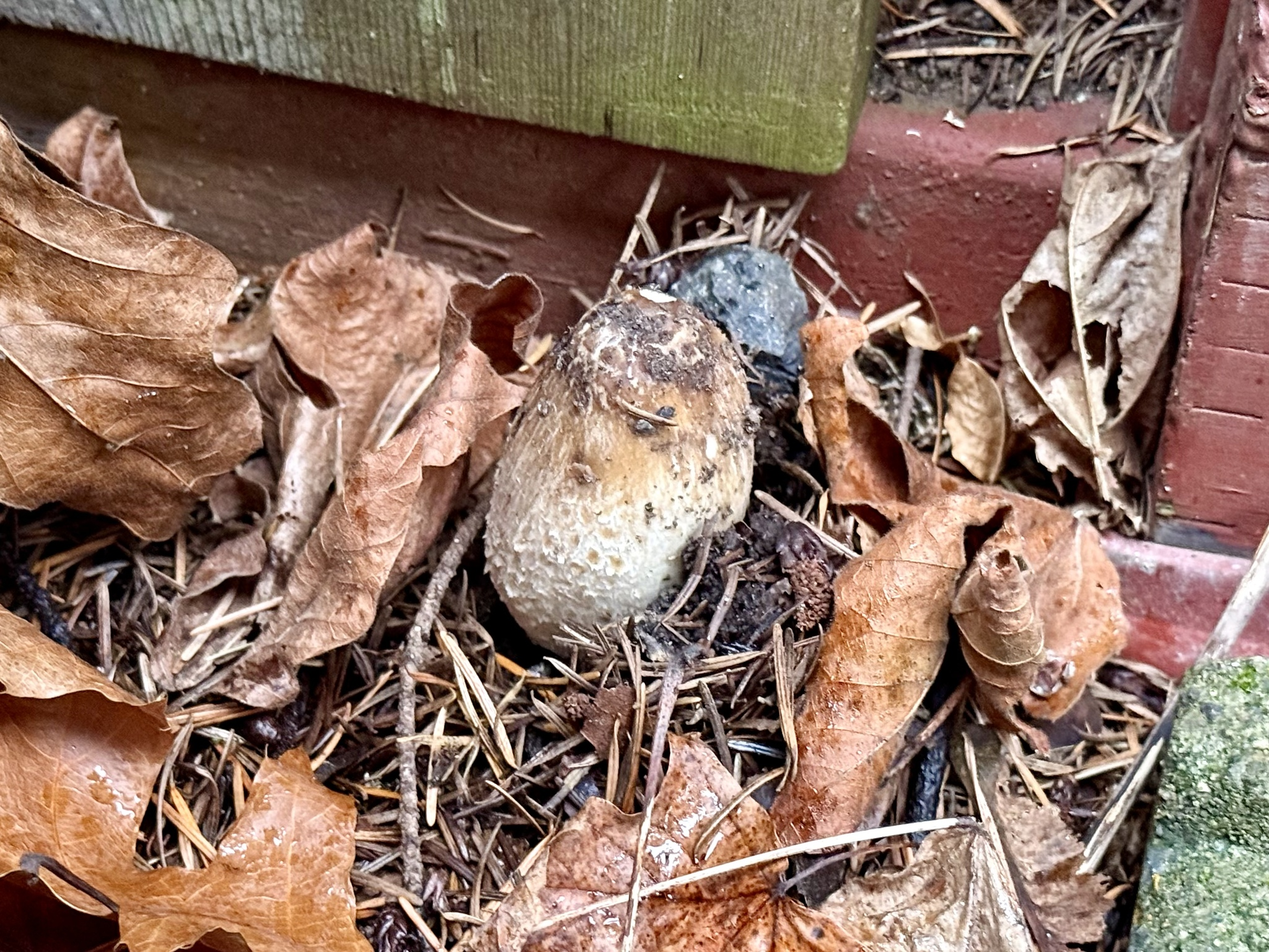cap: (486, 289, 757, 648)
